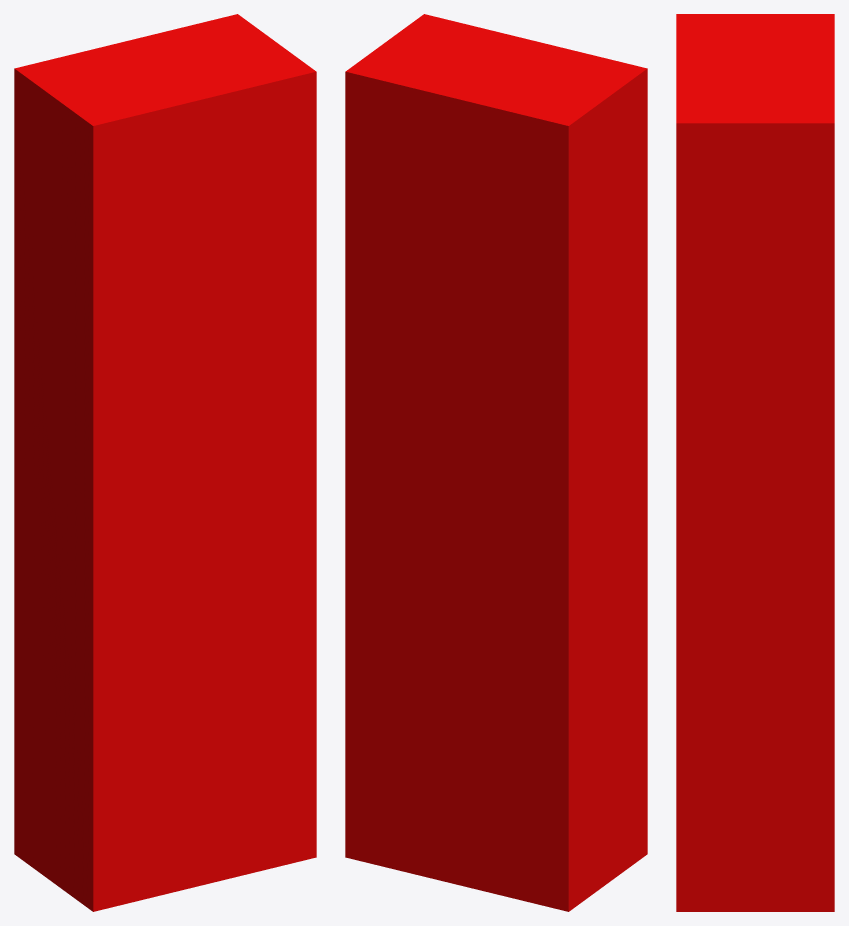
Rendered from chest+trigger.gltf.
3 renders of one model, left to right at view 1: azimuth 30°, elevation 25°; view 2: azimuth 150°, elevation 25°; view 3: azimuth 270°, elevation 25°, orthographic.
Parts seen in each view (by area): view 1: ChestTrigger; view 2: ChestTrigger; view 3: ChestTrigger.
Part boxes in pixels (x1,y1,x2,y2): ChestTrigger: (14,14,316,911); ChestTrigger: (345,14,647,911); ChestTrigger: (676,14,834,911).
Size of what is drawn, in the model's own units: 5.19 by 17.46 by 3.17.
3 materials, 3 textured.
